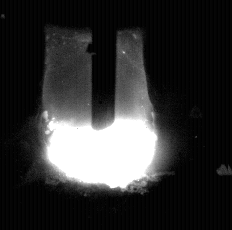arame: (92, 0, 116, 130)
poca: (44, 0, 157, 230)
